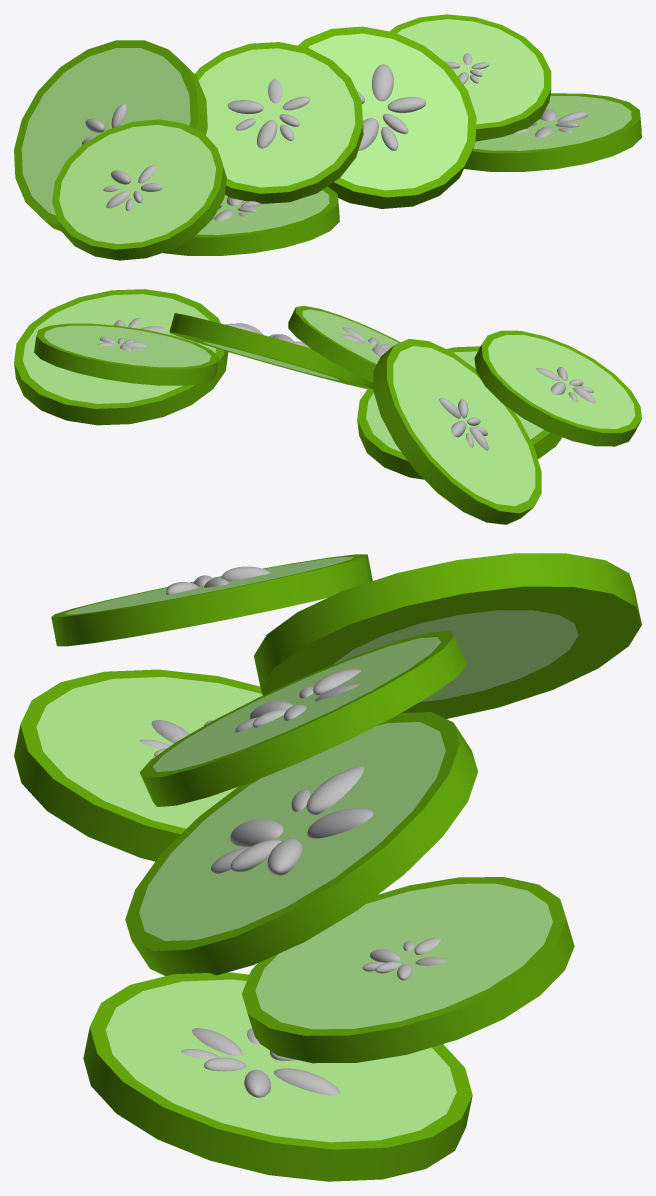
Rendered from TimunPotong.fbx.
3 views of the same model, one above another, from view 1: azimuth 30°, elevation 25°; view 2: azimuth 150°, elevation 25°; view 3: azimuth 270°, elevation 25° (orthographic). The views are drawn at different scales.
Parts seen in each view (by area): view 1: cucumber2; view 2: cucumber2; view 3: cucumber2.
Boxes of the visible parts, x1=… form: cucumber2: x1=14, y1=14, x2=641, y2=260; cucumber2: x1=14, y1=289, x2=641, y2=524; cucumber2: x1=14, y1=553, x2=641, y2=1181.
Size of the model in its own units: 29.18 by 7.3 by 14.92.
